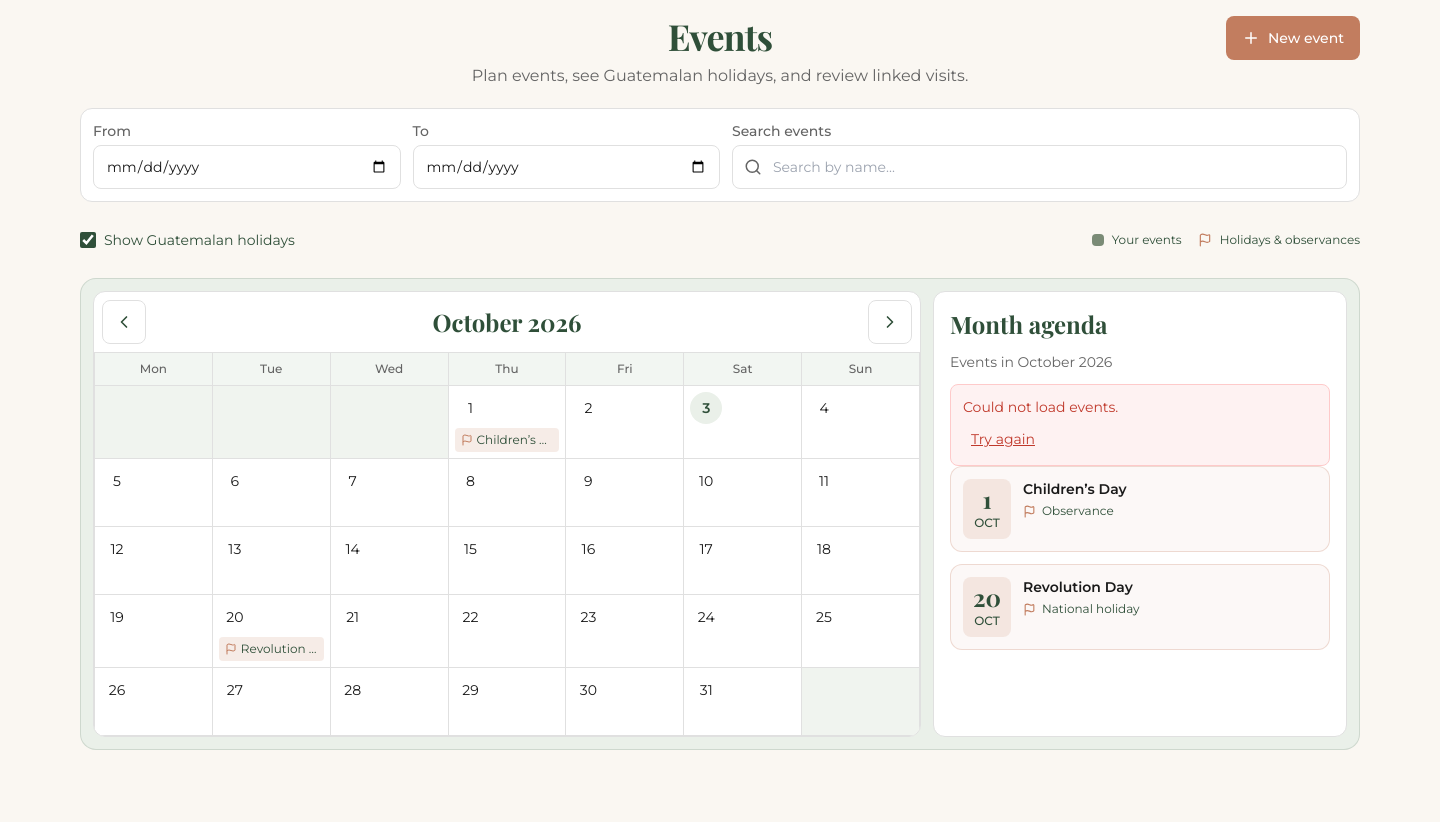
Test case: EventsPage calendar and agenda › shows a retry action when loading fails and recovers
Expected: the message shows "Could not load events.", [963,398,1118,416]
Click the button "Try again".
click(1003, 439)  # box [963,425,1043,453]
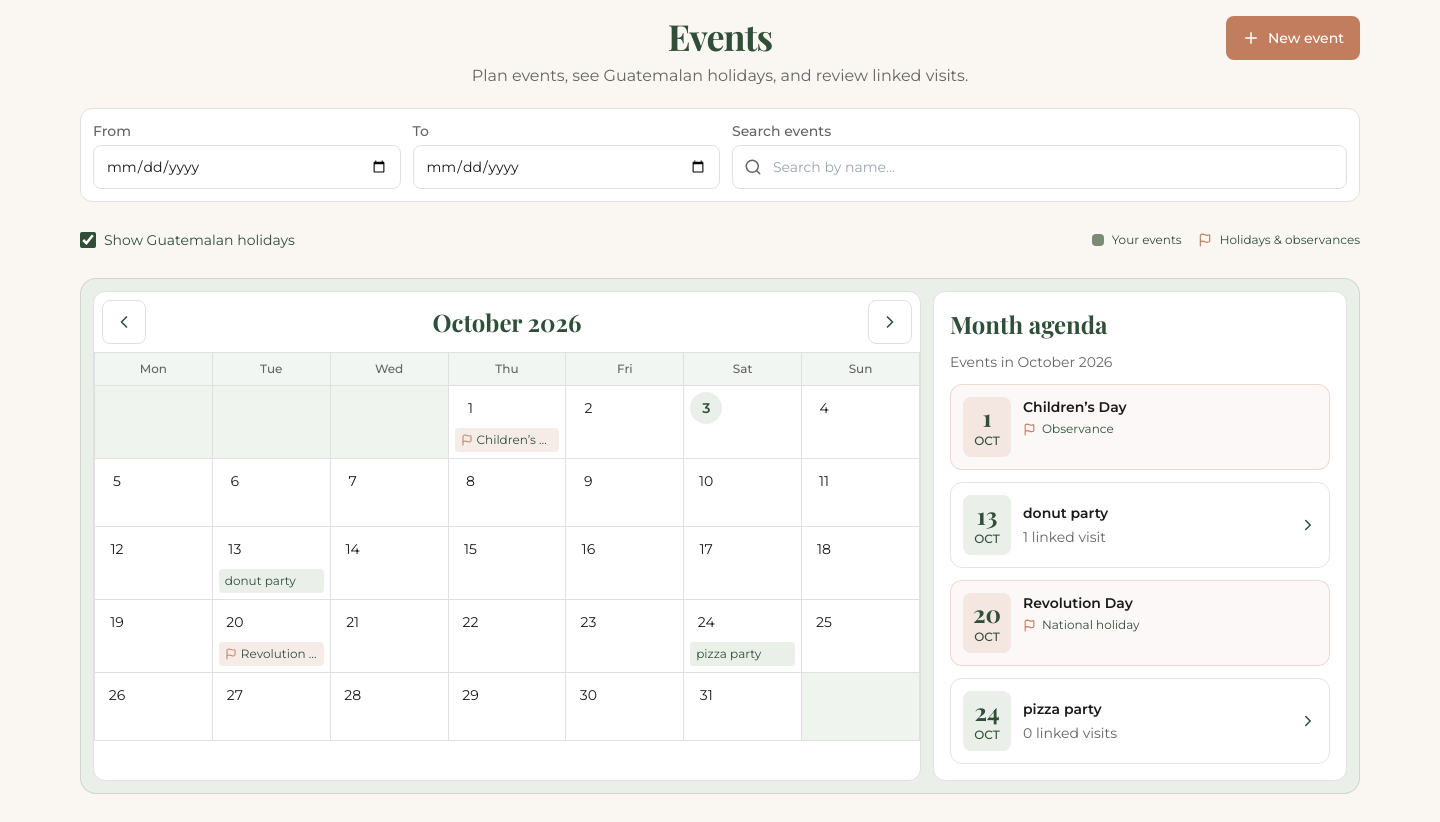
Now the link "13 Oct donut party 1 linked visit" is shown, box [950,482,1330,568]
